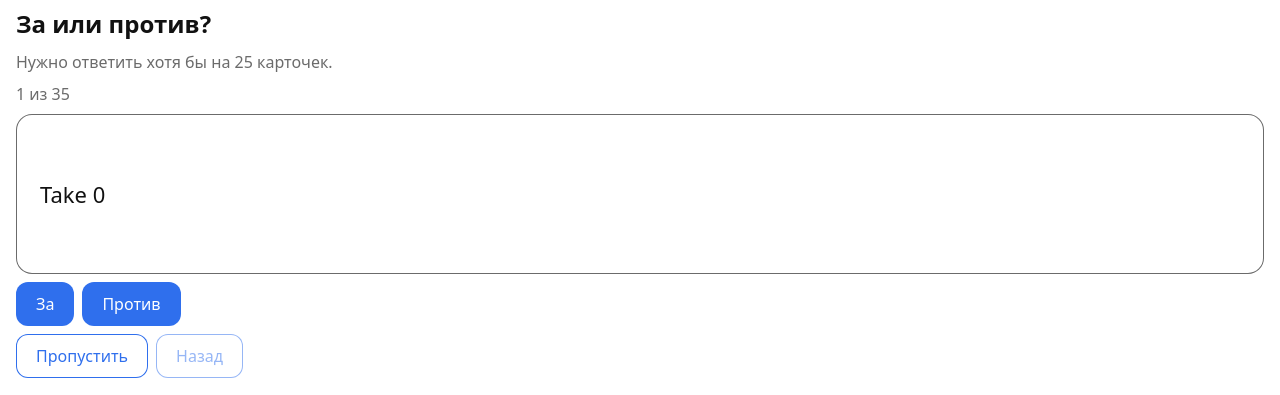
Test: <Deck> › saves agree, disagree and skip, and shows progress
Expected: the text "Take 0" is shown, [16,114,1264,274]
Expected: the text "1 из 35" is shown, [16,83,70,105]
Click the button "За" at (45, 304), box [16,282,74,326]
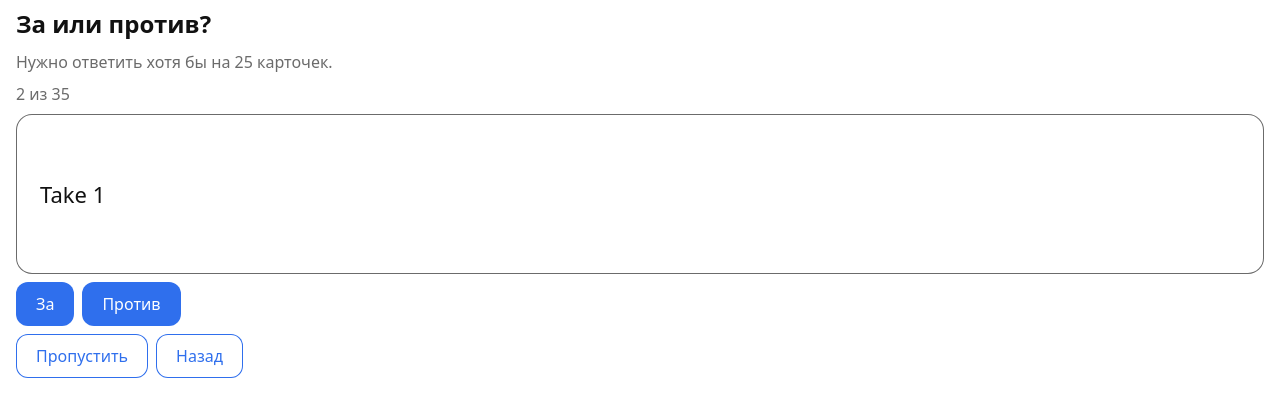
Click the button "Против" at (132, 304), box [82,282,181,326]
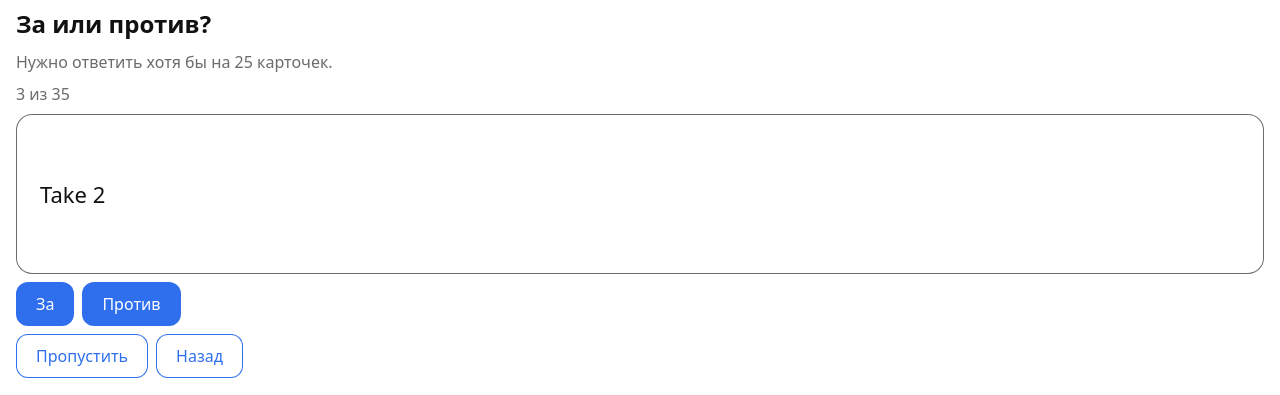
Expected: the button "За" is enabled, [16,282,74,326]
Click the button "Пропустить" at (82, 356), box [16,334,148,378]
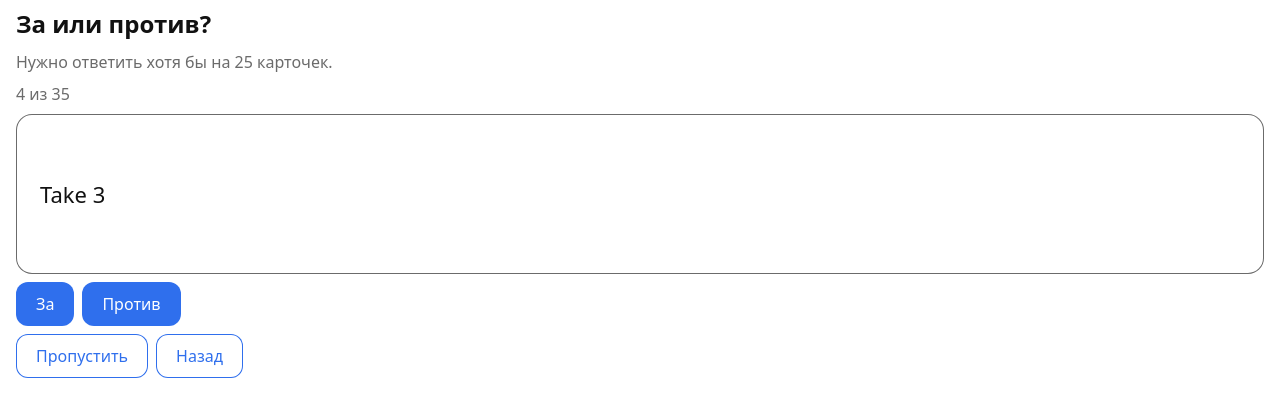
Expected: the button "За" is enabled, [16,282,74,326]
Expected: the text "Take 3" is shown, [16,114,1264,274]
Expected: the text "4 из 35" is shown, [16,83,70,105]
